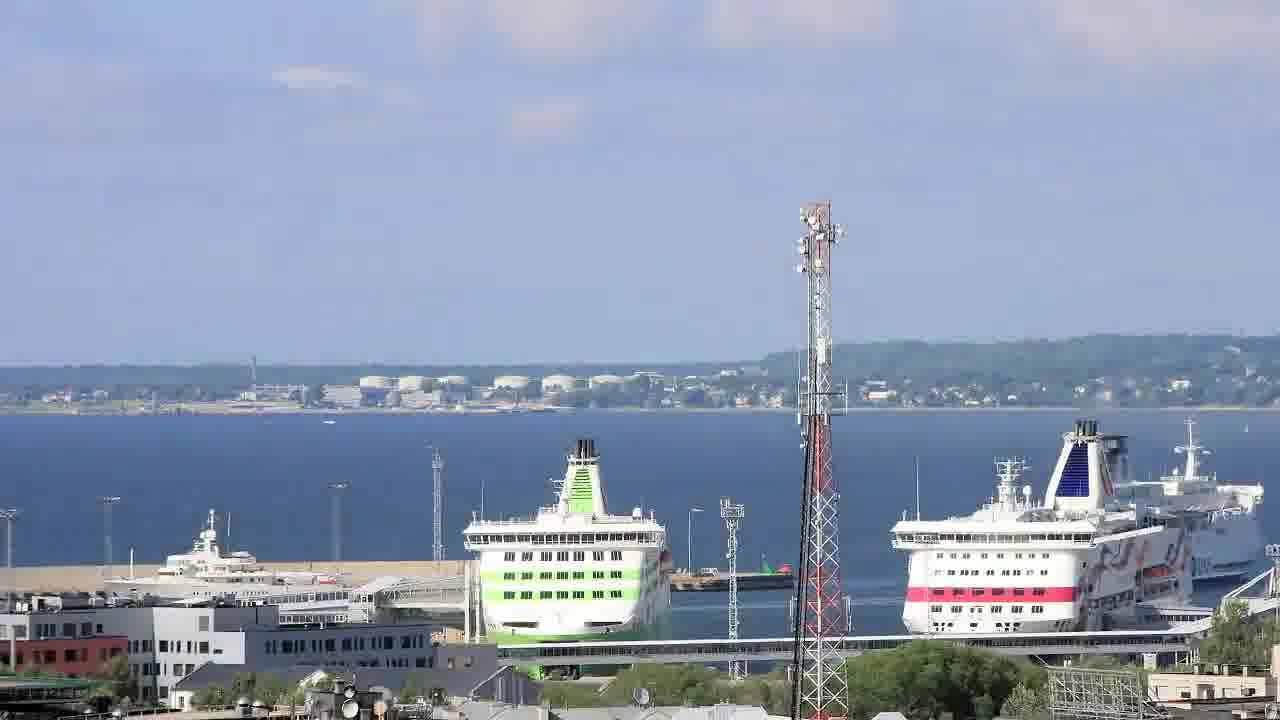type-3: (868, 415, 1225, 638), (436, 434, 694, 670), (1090, 410, 1271, 586), (90, 512, 355, 632)
